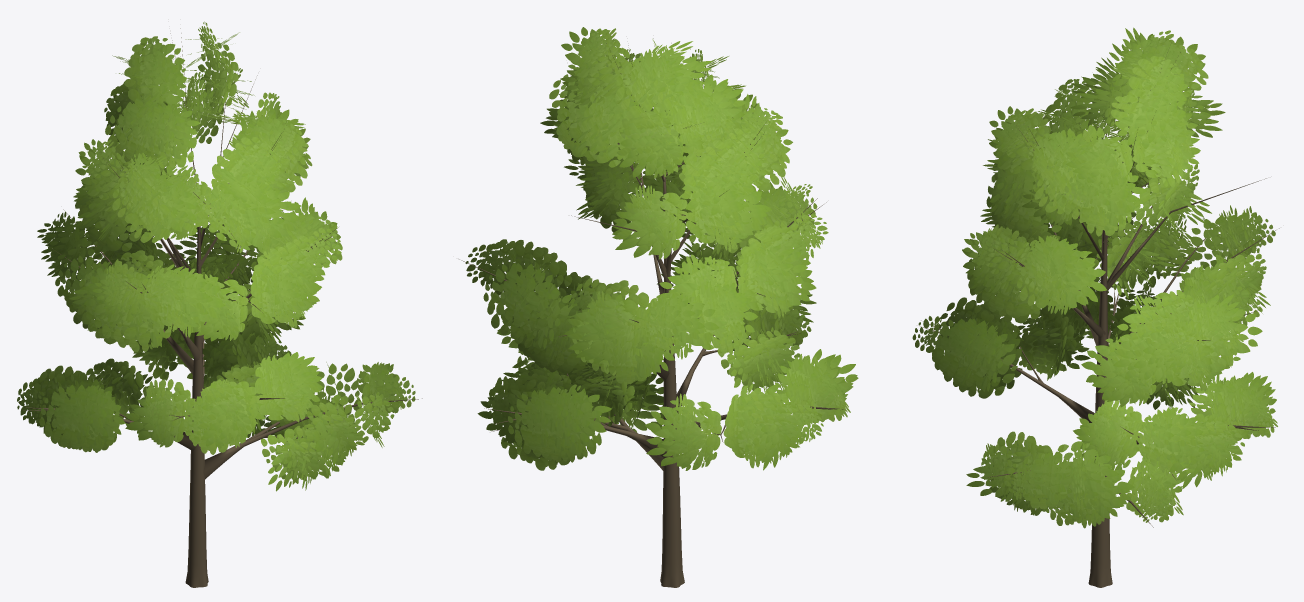
The model's file is stylized tree.glb.
3 views of the same model, side by side, from view 1: azimuth 30°, elevation 25°; view 2: azimuth 150°, elevation 25°; view 3: azimuth 270°, elevation 25° (orthographic). The views are drawn at different scales.
Parts seen in each view (by area): view 1: tree; view 2: tree; view 3: tree.
Boxes of the visible parts, x1=… form: tree: x1=17, y1=21, x2=422, y2=587; tree: x1=459, y1=27, x2=858, y2=587; tree: x1=912, y1=27, x2=1279, y2=587.
Bounding box in the file's own units: 93.55 × 134 × 84.2.
2 materials, 1 textured.
